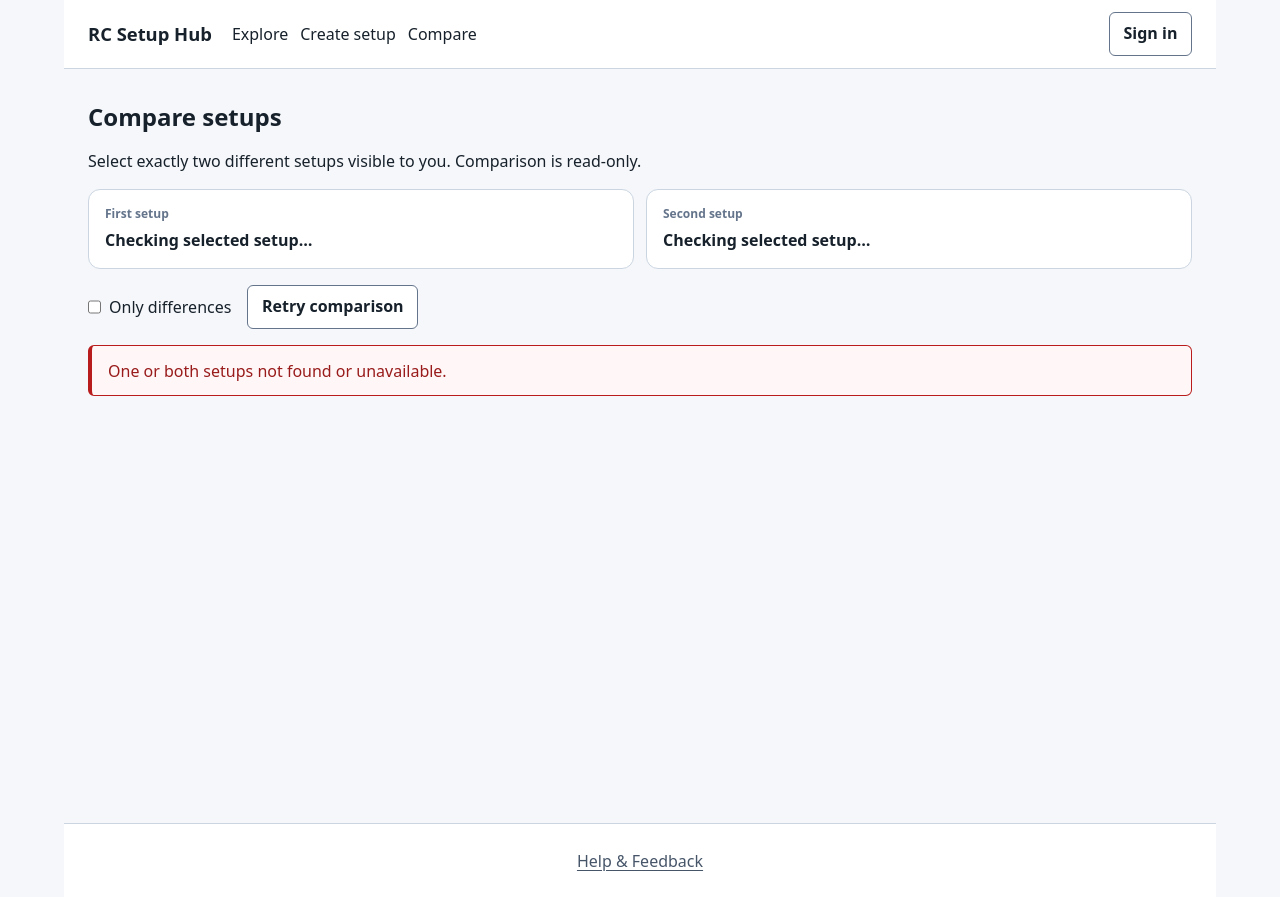
hides both sides on 404 and exposes safe retry
Expected: the message does not show "secret", [88, 345, 1192, 396]
Expected: the text "Alpha" is not shown
What coordinates should you click on to do the following:
click the button "Retry comparison"
I would click on:
 (333, 307)
Its box is [247, 285, 418, 329].
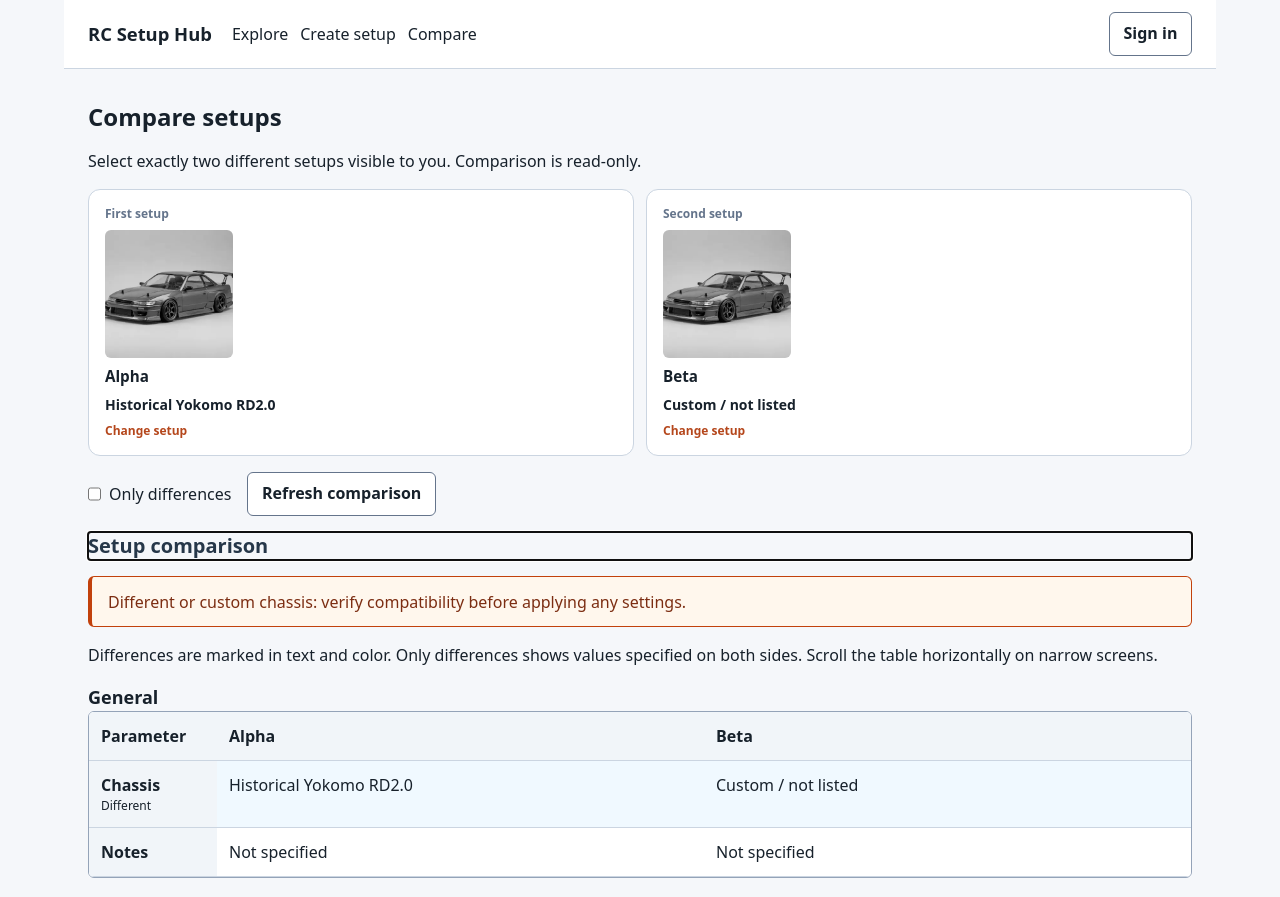
Now the heading "Setup comparison" is shown, box [88, 532, 268, 559]
